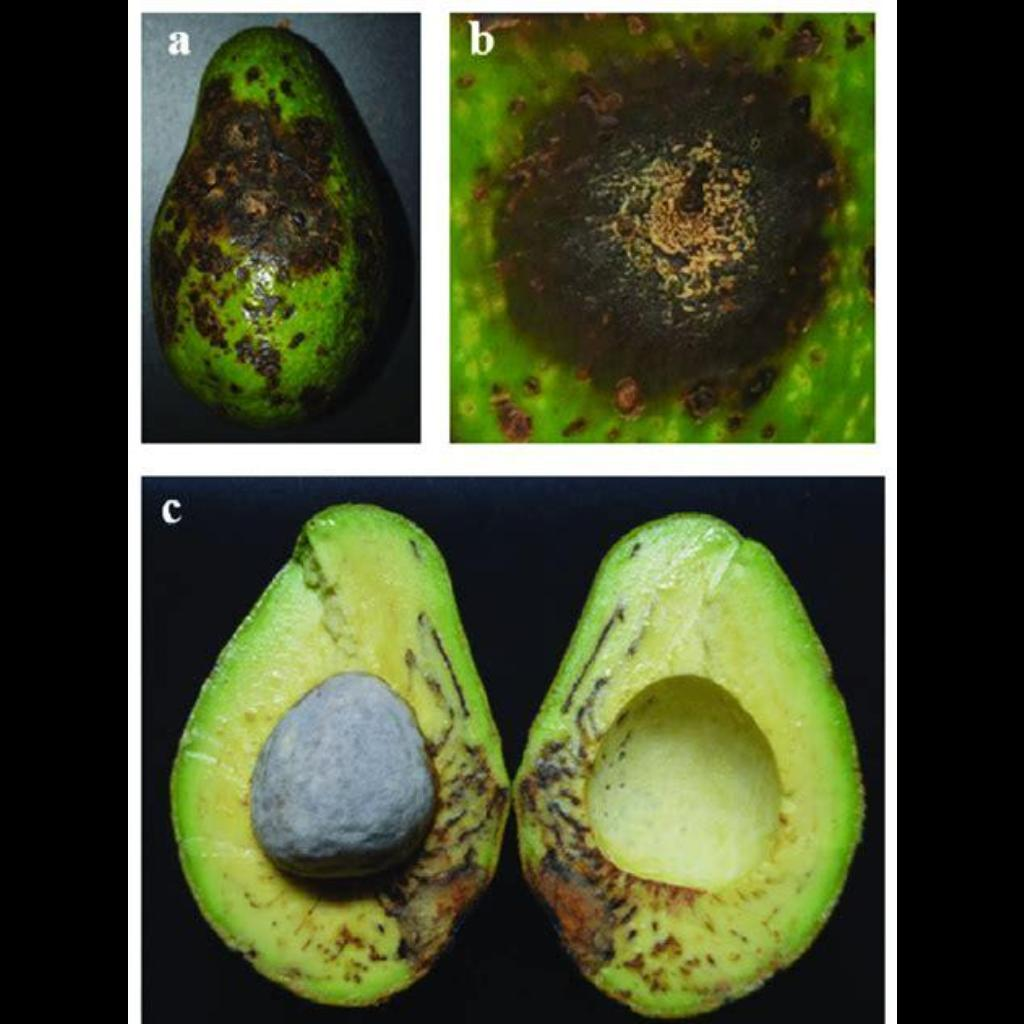Anthracnose: (449, 37, 861, 409), (326, 625, 676, 979), (138, 16, 412, 402)
